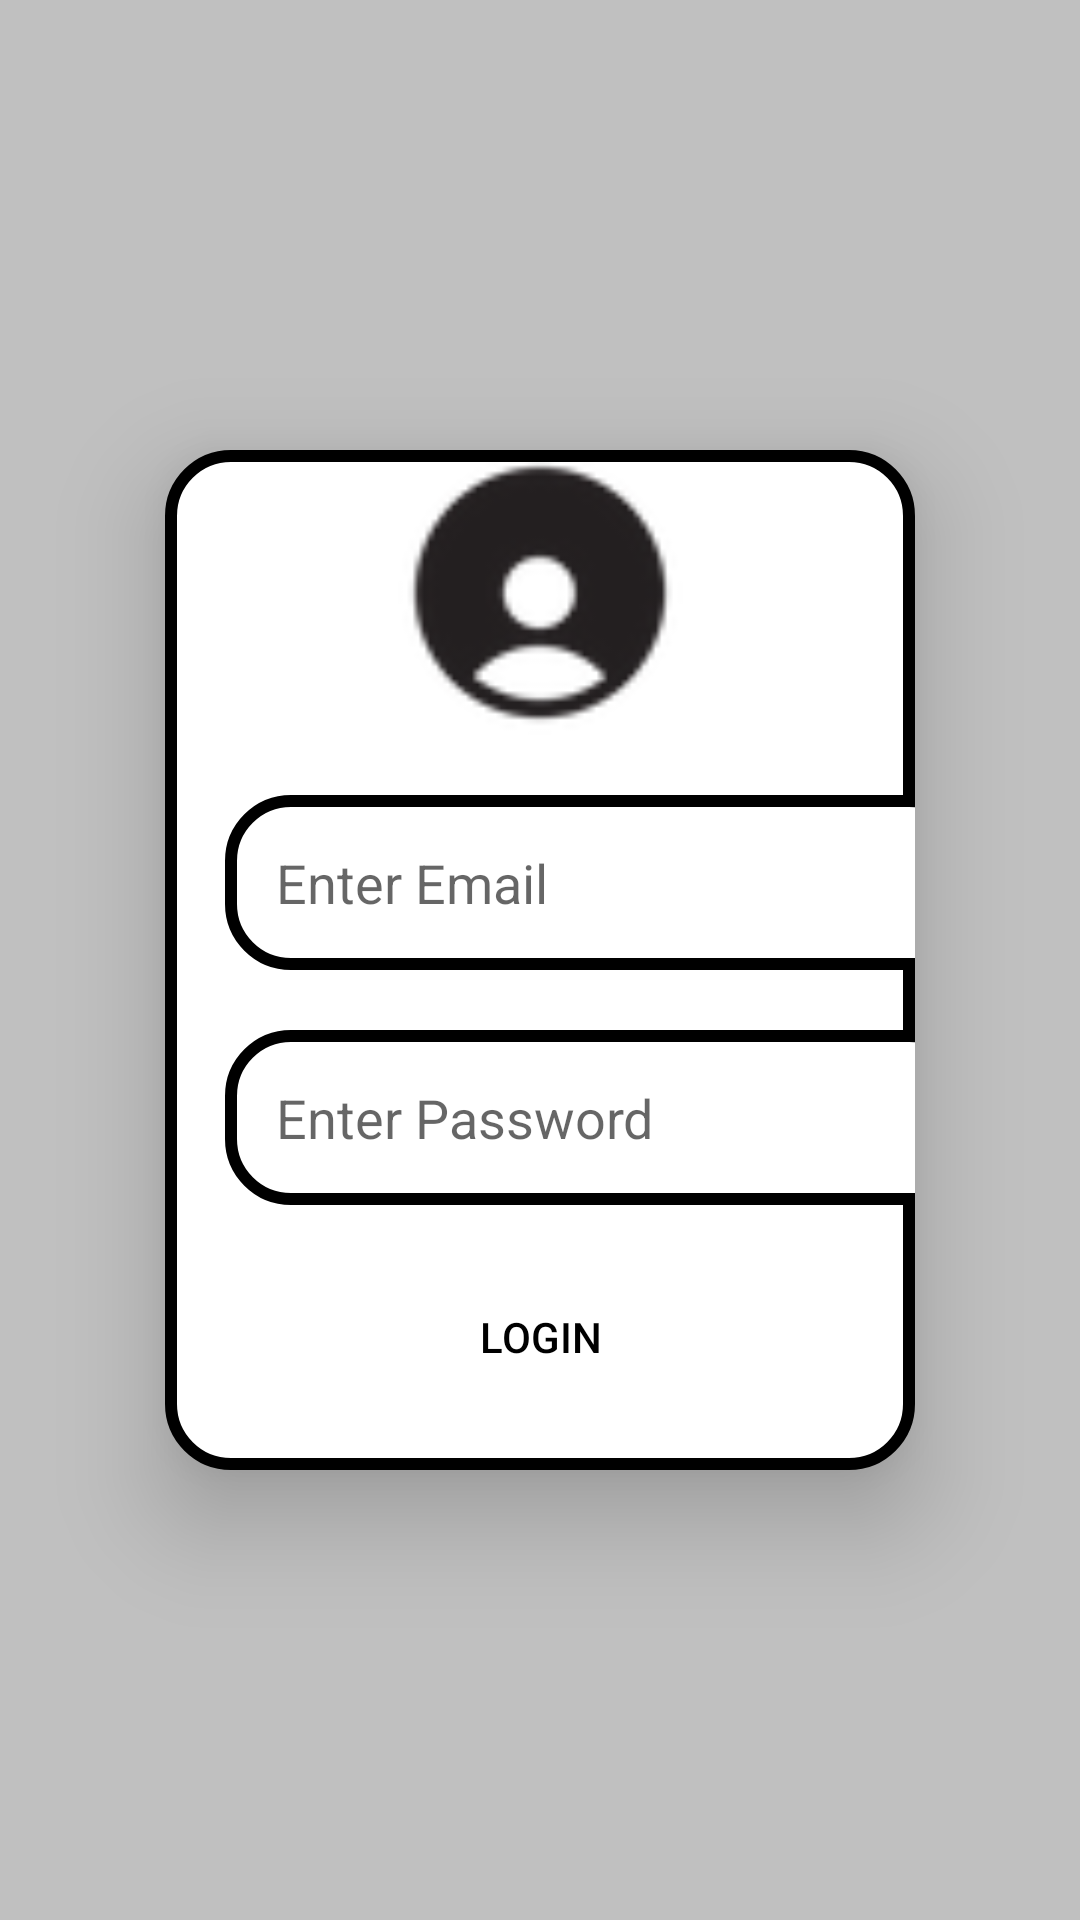

Icon bounding boxes for this 1080×1920 phone screenshot, format BBox(x1, y1, x2, y2):
user: BBox(413, 465, 668, 720)
